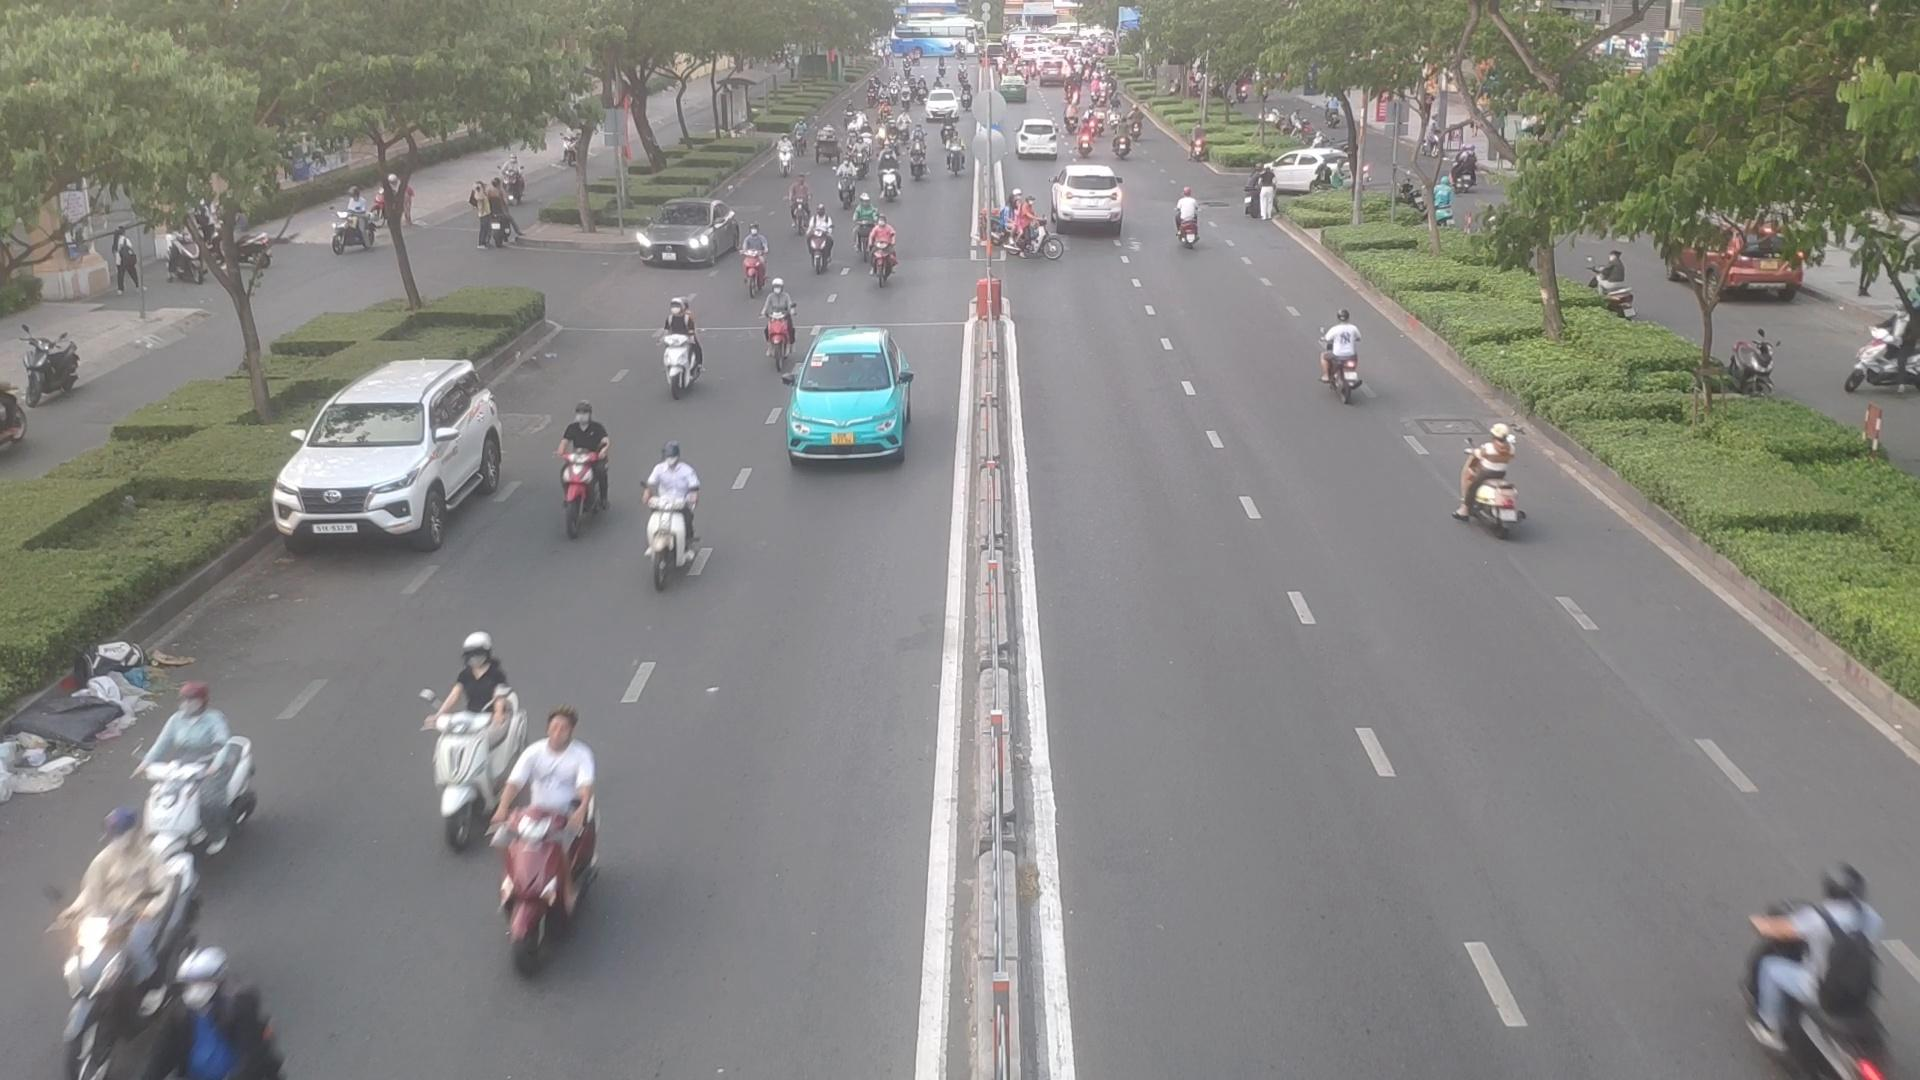car: (273, 363, 508, 555), (782, 324, 916, 465), (632, 203, 746, 270), (1054, 167, 1127, 228), (1266, 148, 1352, 190)
motorbike: (498, 698, 638, 953), (61, 823, 200, 1060), (1713, 860, 1867, 1064), (133, 680, 272, 886), (421, 653, 501, 840), (1443, 401, 1515, 578), (1325, 309, 1383, 435), (644, 443, 691, 596), (553, 404, 609, 527), (1846, 326, 1920, 396), (657, 318, 704, 400), (862, 208, 909, 284), (1014, 199, 1063, 262), (761, 282, 796, 342), (736, 225, 765, 291), (851, 191, 877, 253), (1178, 183, 1200, 247), (789, 182, 814, 236), (947, 131, 969, 179), (878, 148, 898, 200), (907, 138, 930, 185), (808, 200, 822, 276), (837, 158, 857, 208), (851, 135, 869, 185), (774, 136, 793, 179)
